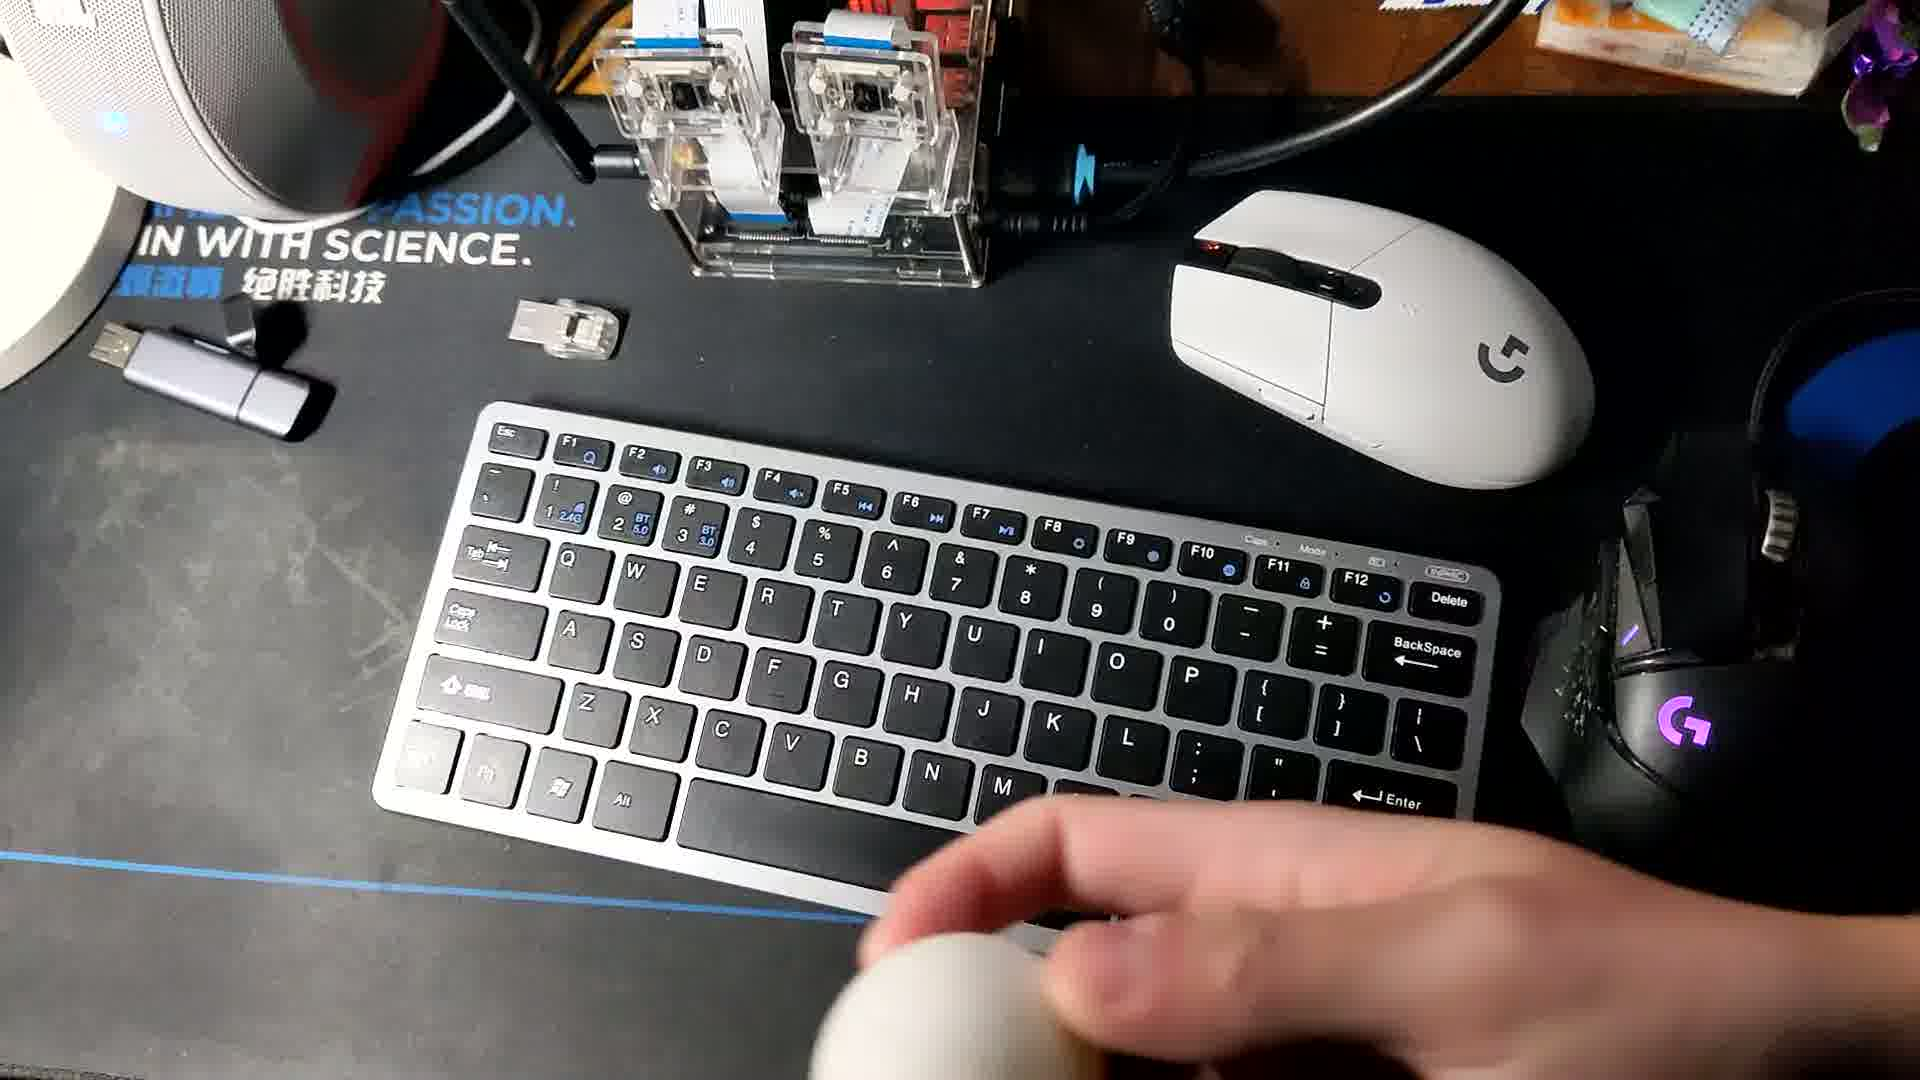Ball: (812, 926, 1095, 1080)
